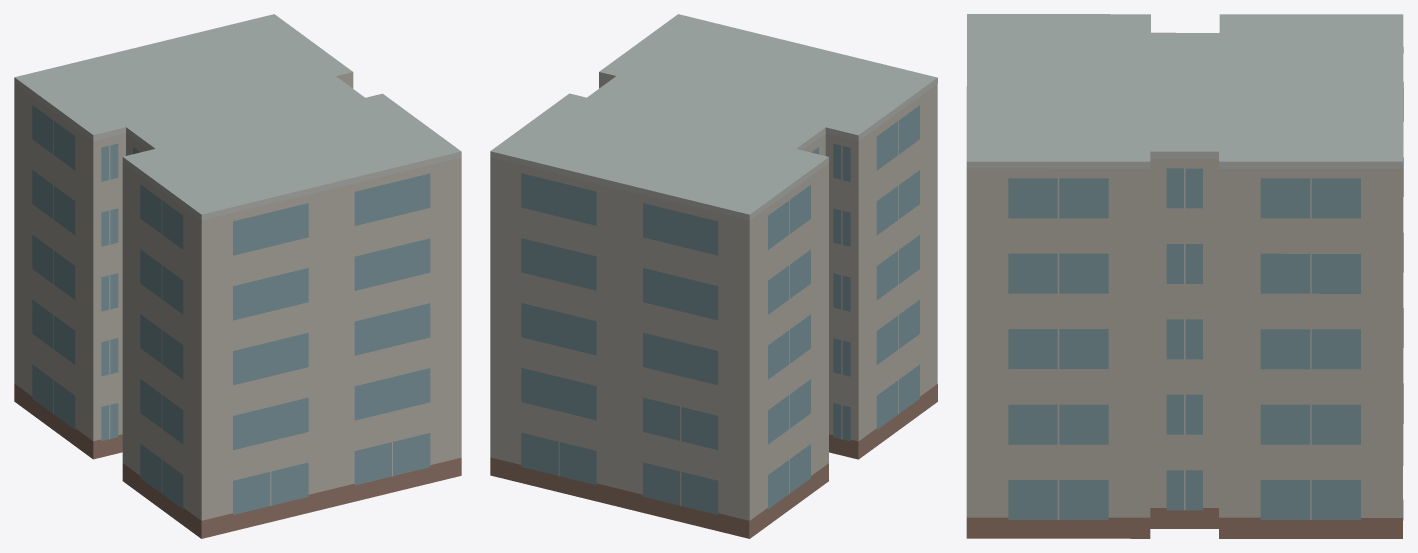
File: survey-upis-32872908.glb
3 renders of one model, left to right at view 1: azimuth 30°, elevation 25°; view 2: azimuth 150°, elevation 25°; view 3: azimuth 270°, elevation 25°, orthographic. The views are drawn at different scales.
Parts seen in each view (by area): view 1: survey-upis-32872908.tmp; view 2: survey-upis-32872908.tmp; view 3: survey-upis-32872908.tmp.
Boxes of the visible parts, bbox=[...] form: survey-upis-32872908.tmp: bbox=[14, 14, 461, 538]; survey-upis-32872908.tmp: bbox=[490, 14, 937, 538]; survey-upis-32872908.tmp: bbox=[966, 14, 1403, 538].
Size of the model in its own units: 11.1 by 13.2 by 13.87.
